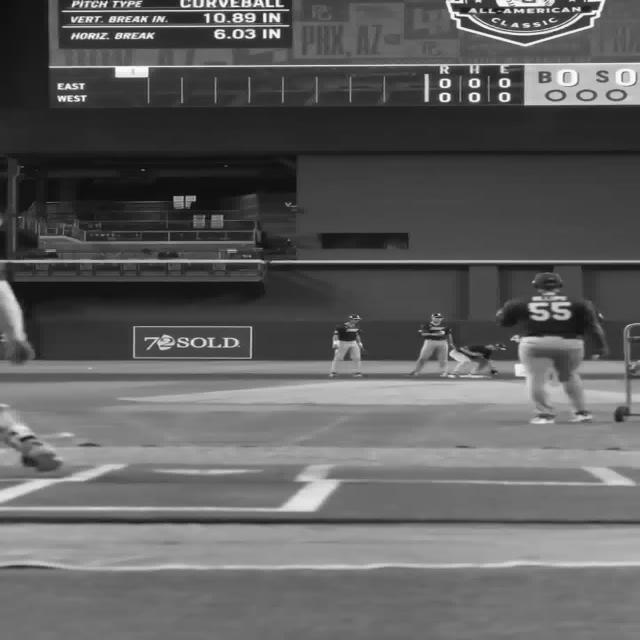base: (158, 469, 264, 475), (452, 375, 496, 380)
shoe: (20, 441, 63, 471), (568, 412, 592, 422), (529, 415, 555, 424), (446, 372, 459, 378), (352, 372, 364, 378), (406, 371, 418, 376), (490, 368, 498, 374), (328, 372, 337, 377)
